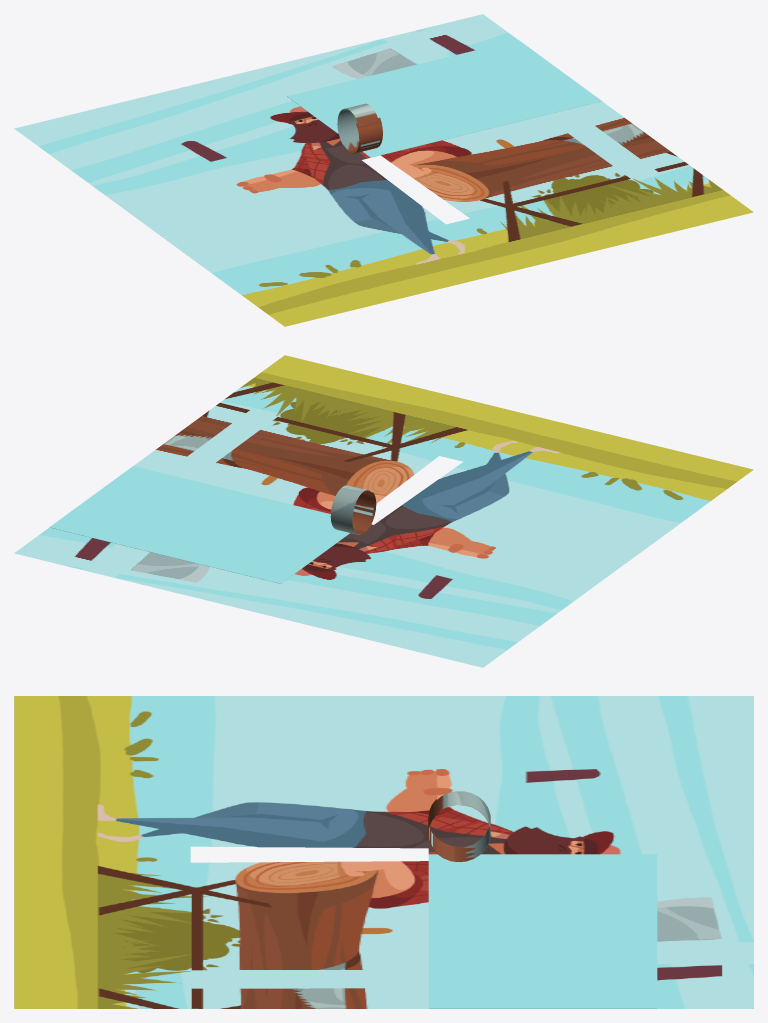
3 renders of one model, top to bottom at view 1: azimuth 30°, elevation 25°; view 2: azimuth 150°, elevation 25°; view 3: azimuth 270°, elevation 25°, orthographic. The views are drawn at different scales.
Visible parts, largest first — view 1: Mesh, blend, blend1; view 2: Mesh, blend, blend1; view 3: Mesh, blend, blend1.
Part boxes in pixels (bbox=[...]): Mesh: bbox=[14, 14, 753, 326]; blend: bbox=[287, 40, 601, 157]; blend1: bbox=[337, 103, 382, 153]; Mesh: bbox=[14, 355, 753, 667]; blend: bbox=[49, 466, 349, 583]; blend1: bbox=[330, 485, 376, 534]; Mesh: bbox=[14, 696, 753, 1008]; blend: bbox=[428, 854, 657, 1008]; blend1: bbox=[428, 791, 490, 861].
Size of the model in its own units: 2400 by 203 by 2400.
